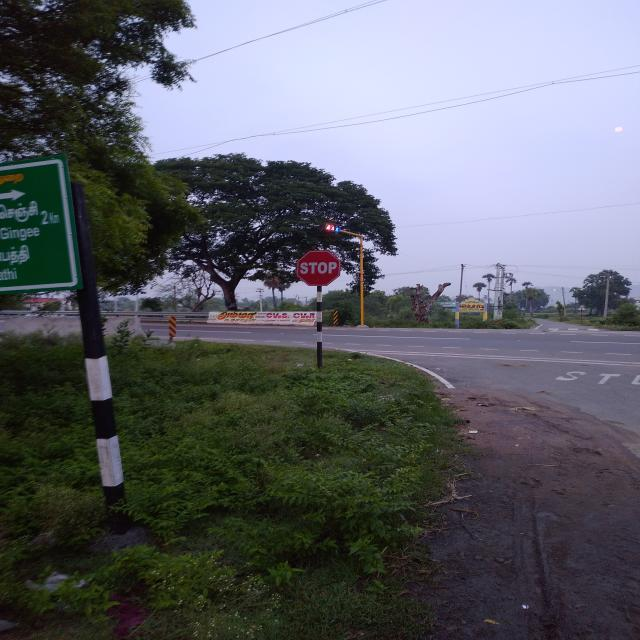stop: (296, 250, 341, 286)
